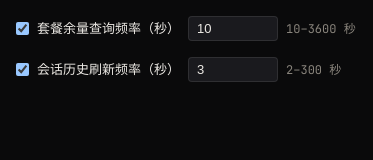
Test: 非法输入（行内红字，不提交不 toast） › 空串 → 行内红字 = 范围文案 + 不提交不 toast + 输入保留
expect the field labelled "套餐余量查询频率（秒）" is shown: met, box 188,16 -> 278,41
Clear the field labelled "会话历史刷新频率（秒）" at (233, 70), box 188,57 -> 278,82
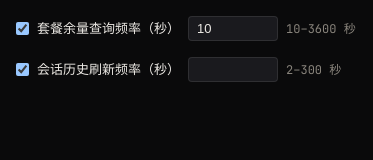
Leave the field labelled "会话历史刷新频率（秒）", box 188,57 -> 278,82
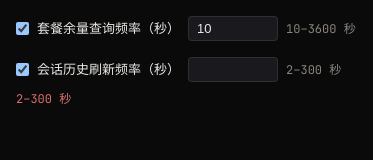
expect the text with test id "settings-background-tasks-error-sessionRefresh" reads "2–300 秒": met, box 16,91 -> 71,107
